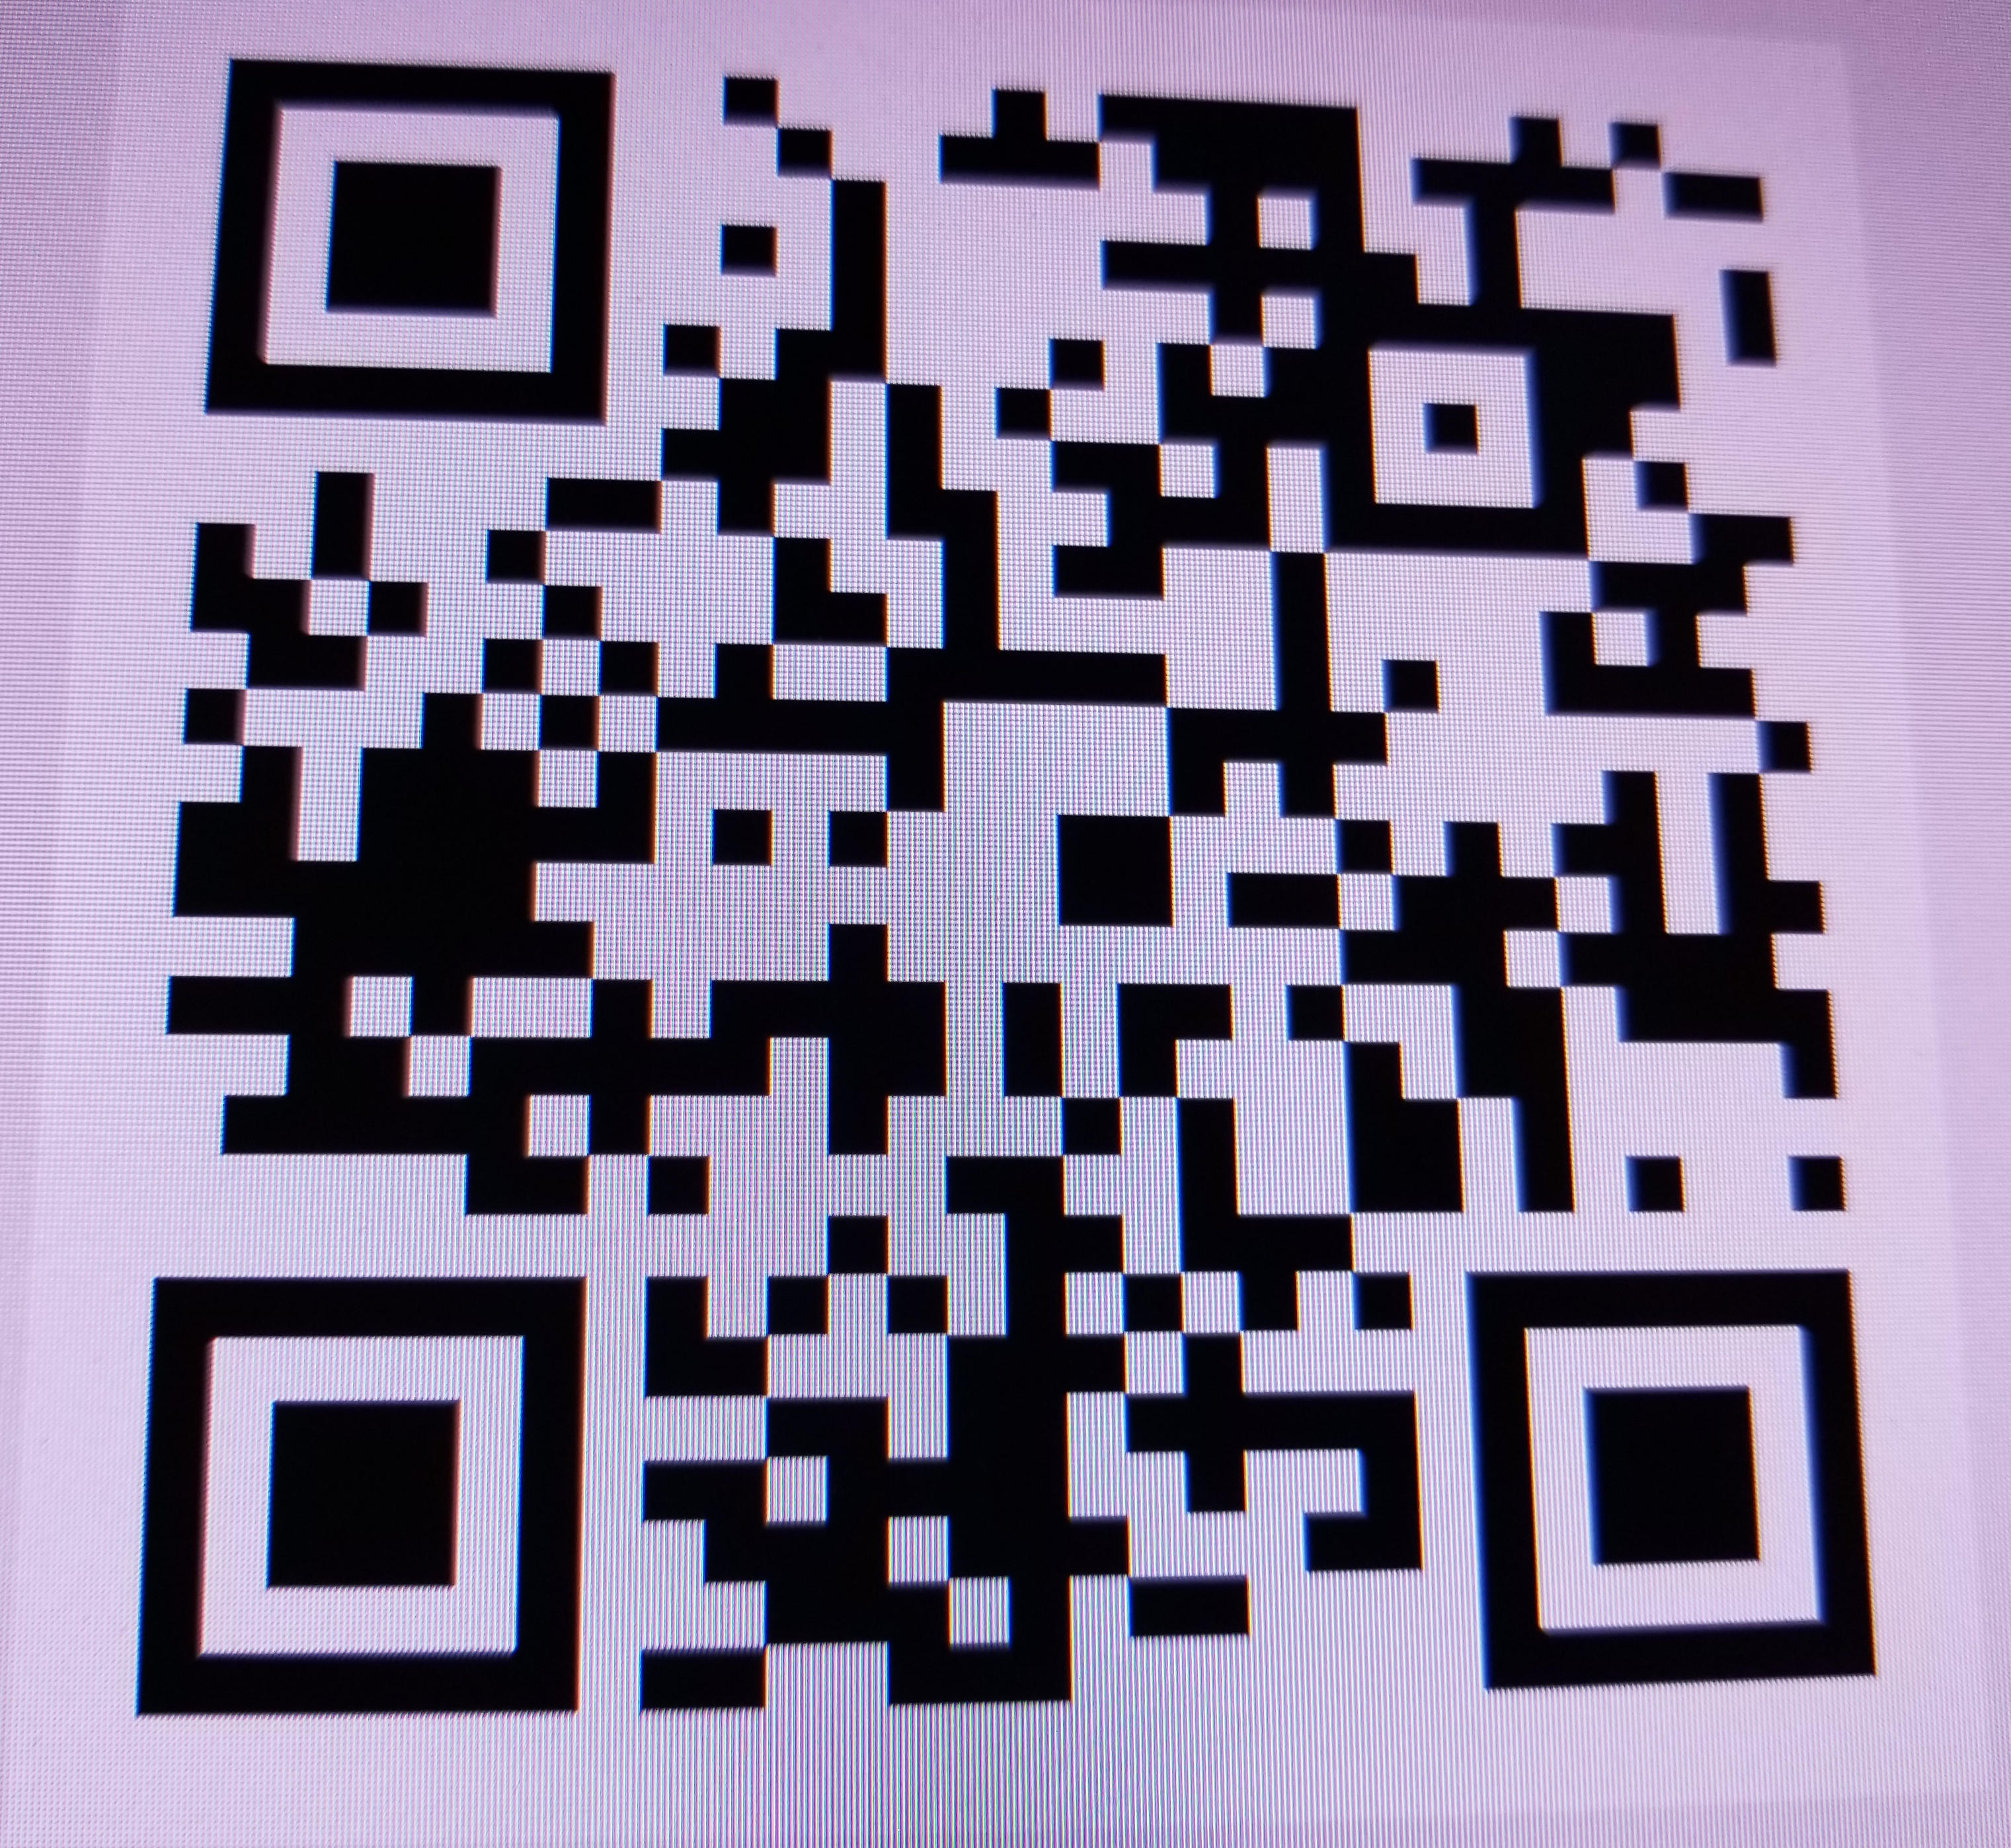QR_CODE: (82, 18, 1922, 1750)
